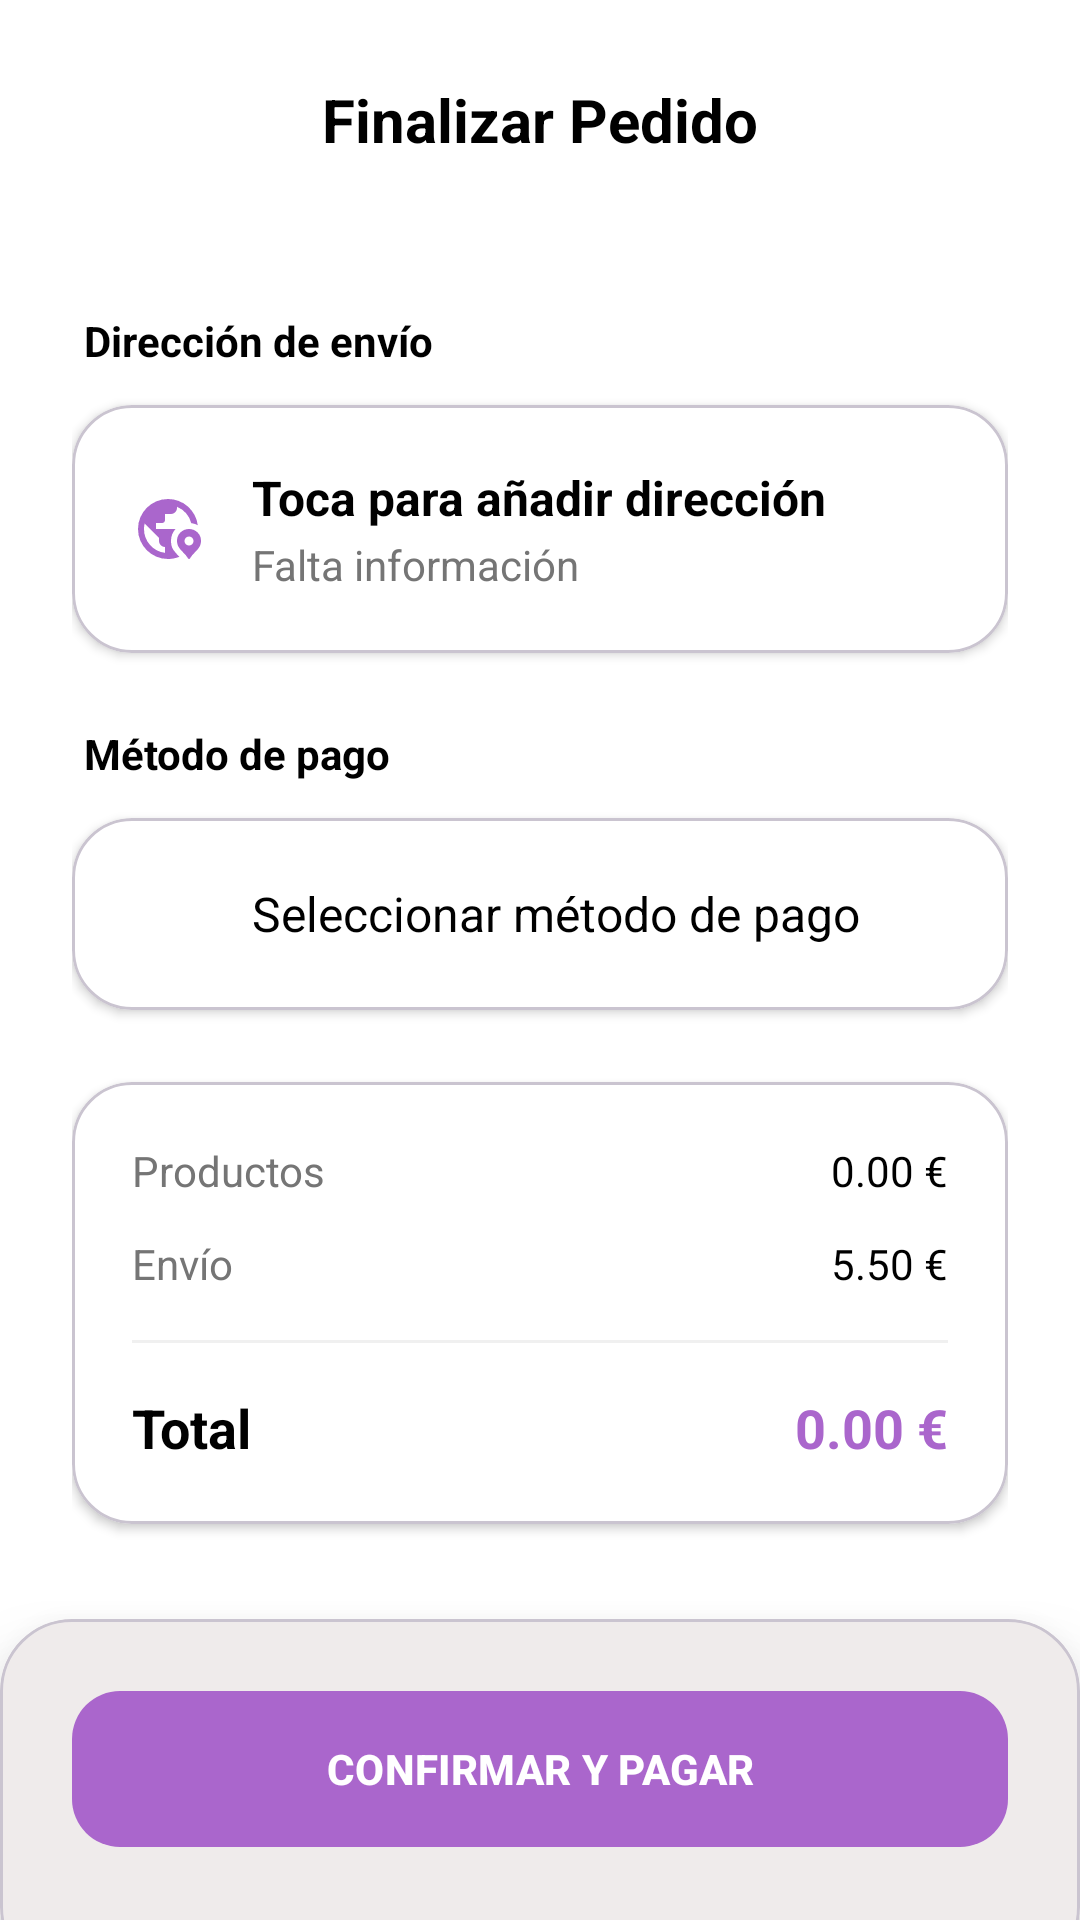

Icon bounding boxes for this 1080x1920 phone screenshot, format (x1, y1, x2, y2):
globe location pin: (138, 499, 201, 559)
